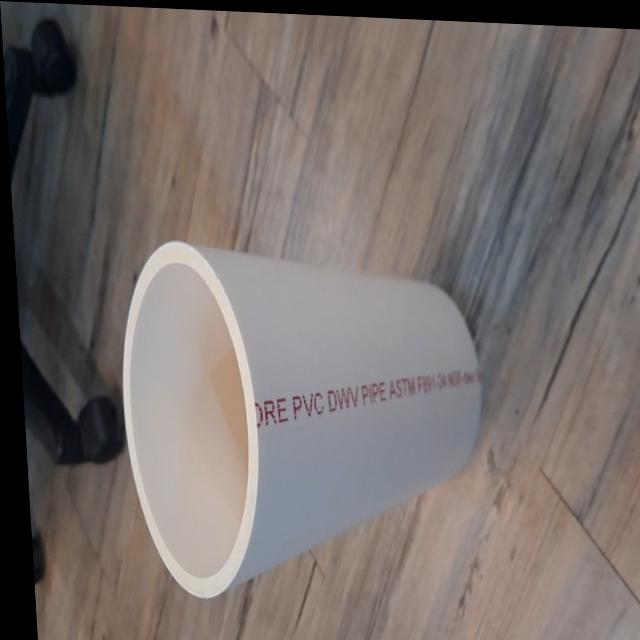CORAL: (107, 209, 496, 618)
